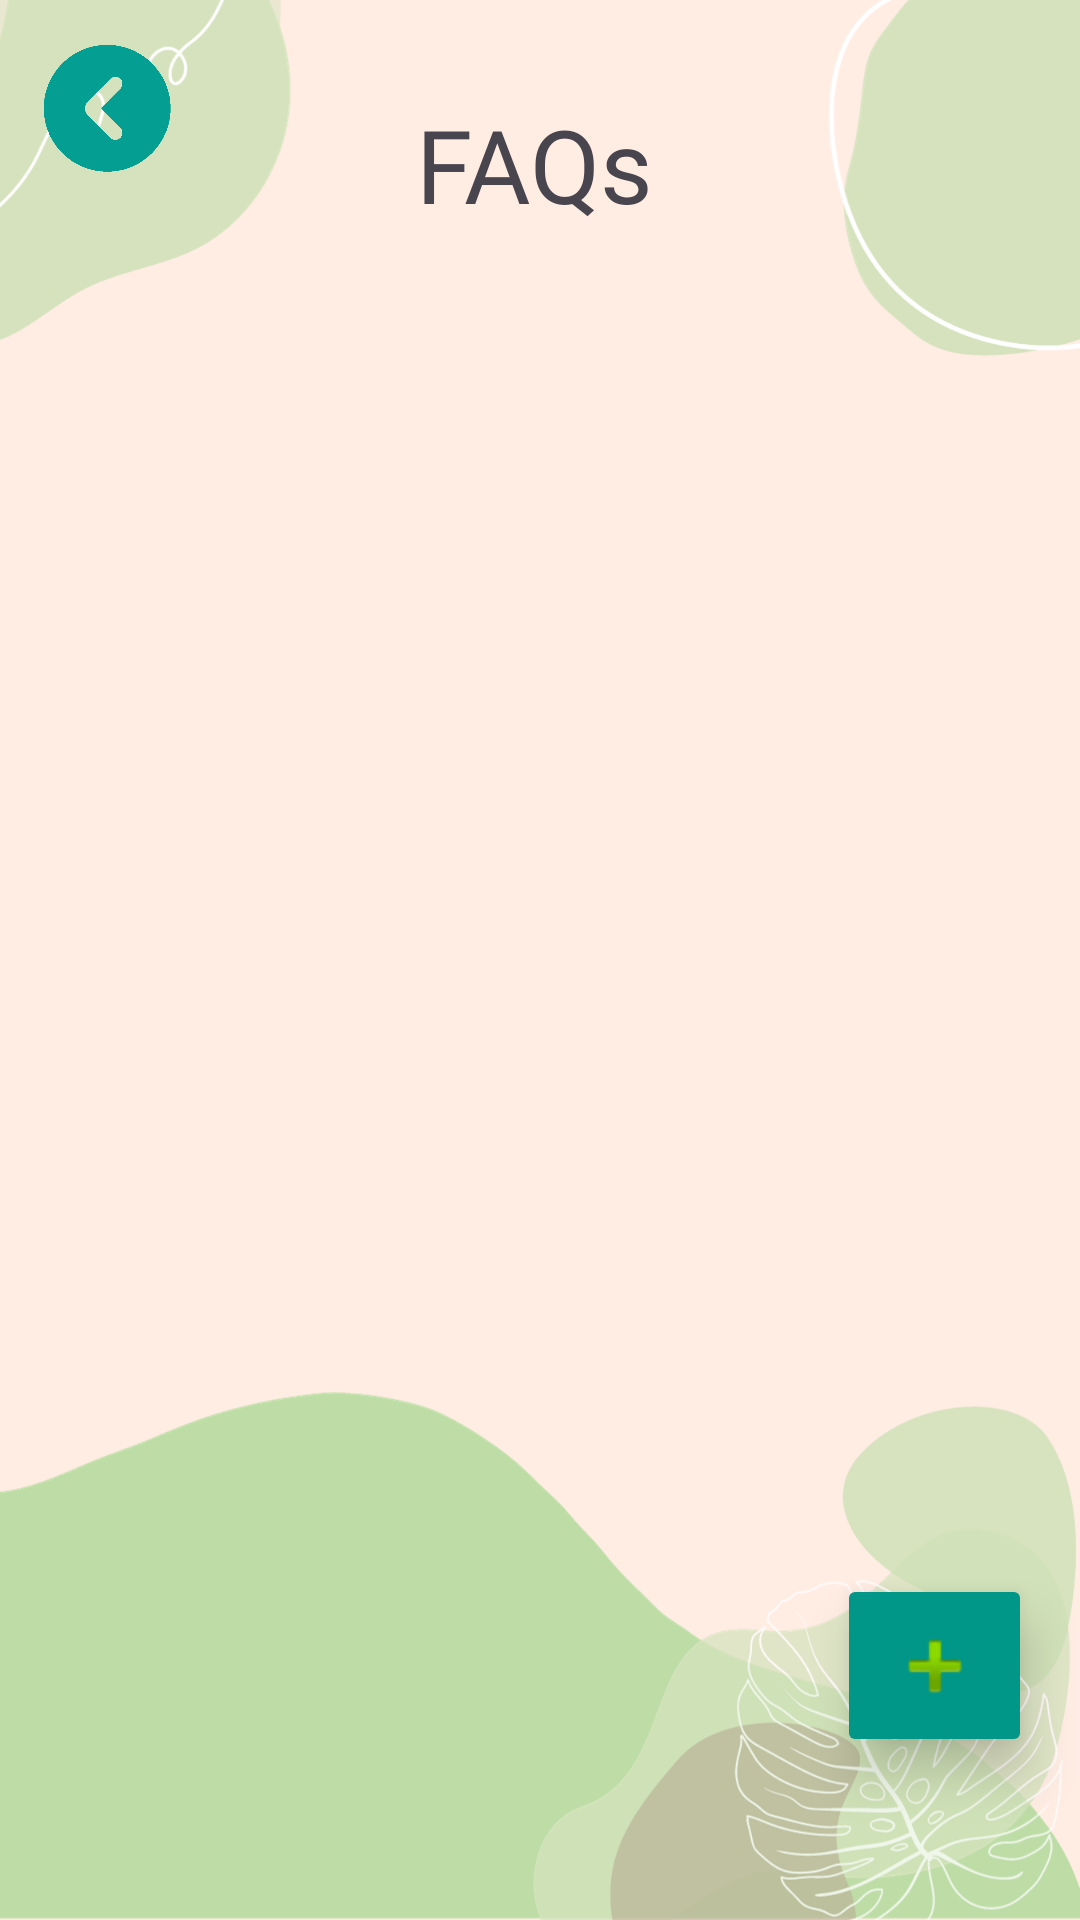

Icons on this 1080w x 1920h Android screen, each with its box as bbox(x1, y1, x2, y2):
add: bbox(837, 1574, 1032, 1757)
backicon: bbox(41, 45, 173, 172)
